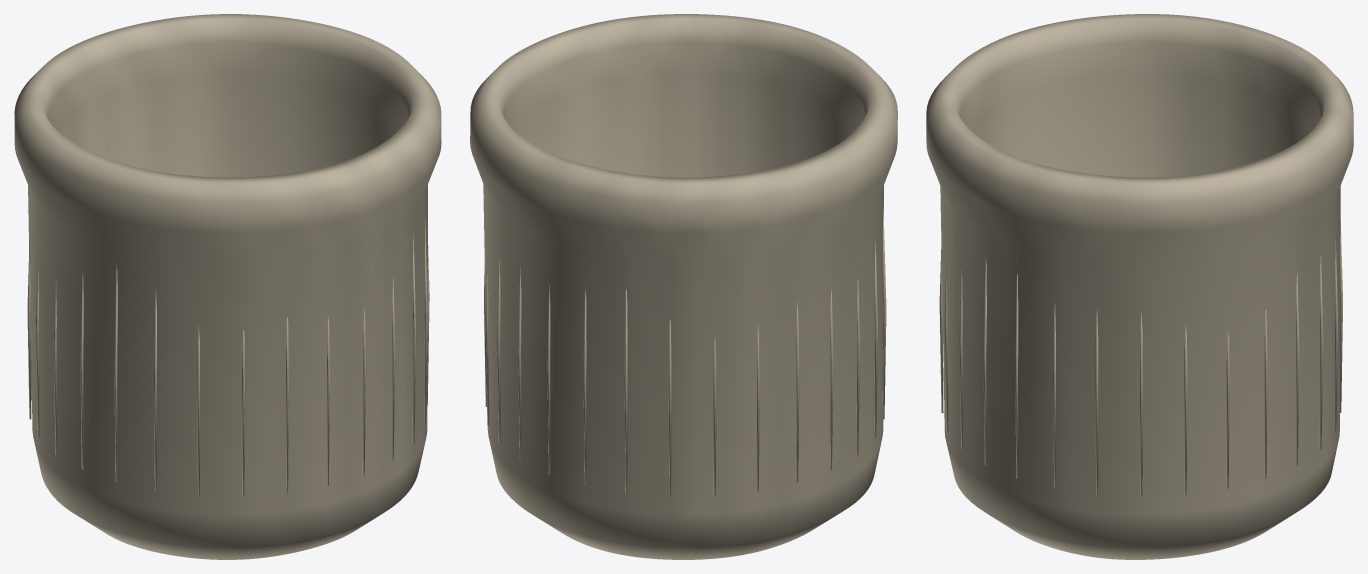
The model's file is stone-vessel.glb.
3 renders of one model, left to right at view 1: azimuth 30°, elevation 25°; view 2: azimuth 150°, elevation 25°; view 3: azimuth 270°, elevation 25°, orthographic.
Parts seen in each view (by area): view 1: chalk-cup, tool-trace12, tool-trace13, tool-trace4, tool-trace11, tool-trace3; view 2: chalk-cup, tool-trace20, tool-trace21, tool-trace23, tool-trace24, tool-trace22, tool-trace12, tool-trace16, tool-trace15, tool-trace19, tool-trace18, tool-trace13; view 3: chalk-cup, tool-trace3, tool-trace4, tool-trace1, tool-trace24, tool-trace27, tool-trace25, tool-trace23, tool-trace26, tool-trace5, tool-trace0.
Part boxes in pixels (x1=…): chalk-cup: x1=14, y1=14, x2=441, y2=559; tool-trace12: x1=114, y1=264, x2=117, y2=482; tool-trace13: x1=80, y1=272, x2=83, y2=470; tool-trace4: x1=412, y1=234, x2=416, y2=443; tool-trace11: x1=154, y1=289, x2=156, y2=491; tool-trace3: x1=424, y1=220, x2=427, y2=425; chalk-cup: x1=470, y1=14, x2=897, y2=559; tool-trace20: x1=624, y1=288, x2=627, y2=493; tool-trace21: x1=583, y1=286, x2=586, y2=485; tool-trace23: x1=518, y1=266, x2=521, y2=460; tool-trace24: x1=497, y1=250, x2=500, y2=443; tool-trace22: x1=547, y1=285, x2=550, y2=474; tool-trace12: x1=882, y1=206, x2=886, y2=419; tool-trace16: x1=796, y1=301, x2=799, y2=482; tool-trace15: x1=830, y1=289, x2=833, y2=470; tool-trace19: x1=668, y1=319, x2=671, y2=496; tool-trace18: x1=713, y1=335, x2=716, y2=496; tool-trace13: x1=874, y1=241, x2=877, y2=437; chalk-cup: x1=926, y1=14, x2=1353, y2=559; tool-trace3: x1=1015, y1=273, x2=1018, y2=478; tool-trace4: x1=983, y1=256, x2=986, y2=465; tool-trace1: x1=1095, y1=308, x2=1098, y2=494; tool-trace24: x1=1296, y1=272, x2=1299, y2=465; tool-trace27: x1=1184, y1=324, x2=1187, y2=494; tool-trace25: x1=1264, y1=308, x2=1267, y2=478; tool-trace23: x1=1319, y1=256, x2=1323, y2=449; tool-trace26: x1=1226, y1=331, x2=1229, y2=488; tool-trace5: x1=959, y1=263, x2=963, y2=449; tool-trace0: x1=1140, y1=312, x2=1142, y2=497.
Size of the model in its own units: 0.32 by 0.328 by 0.3201.
